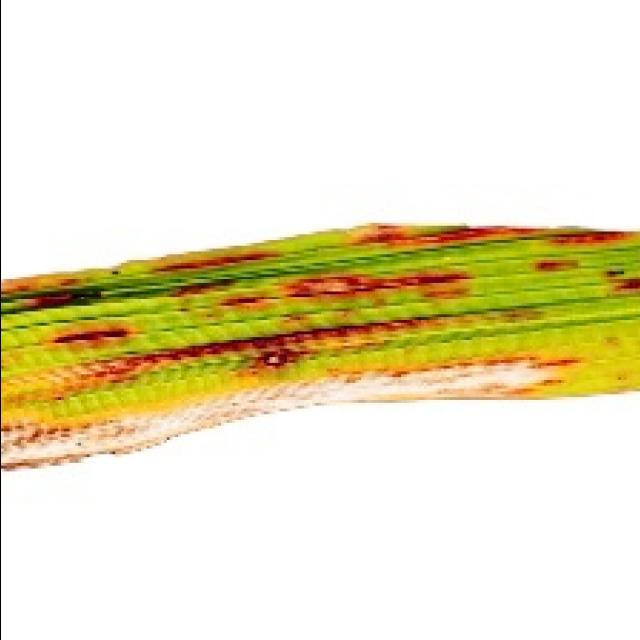Unhealthy: (0, 357, 575, 472), (0, 305, 545, 406), (285, 270, 473, 303), (345, 222, 542, 248), (148, 252, 281, 272), (45, 323, 133, 348), (550, 229, 640, 244), (31, 293, 101, 312), (0, 277, 78, 294), (213, 296, 277, 312), (535, 260, 575, 271), (611, 278, 640, 291)
